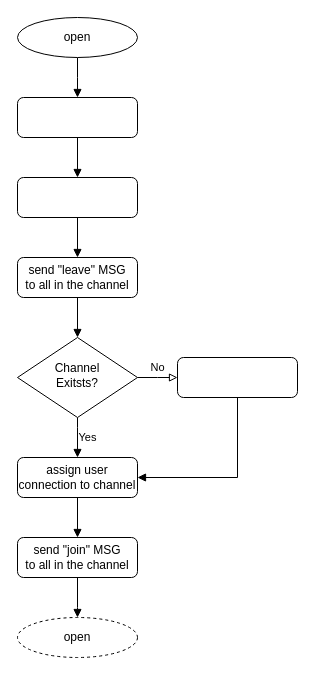
Some shapes in this 315 by 675 pixel diagram are drawn without their labels. Each missing label, with the box of its shape:
create the channel: (176, 356, 298, 398)
receive JOIN: (16, 96, 138, 138)
remove user connection from current channel: (16, 176, 138, 218)
